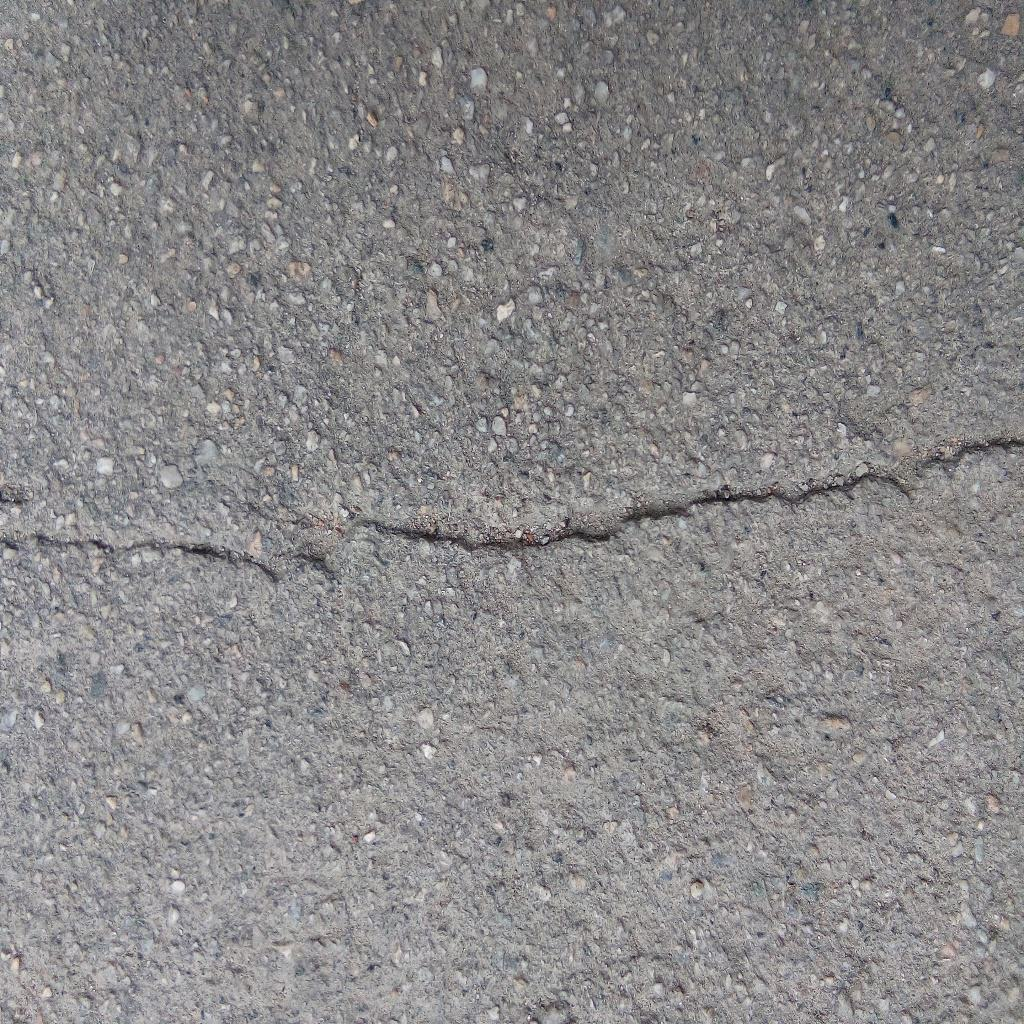Crack: (1, 434, 1024, 585)
